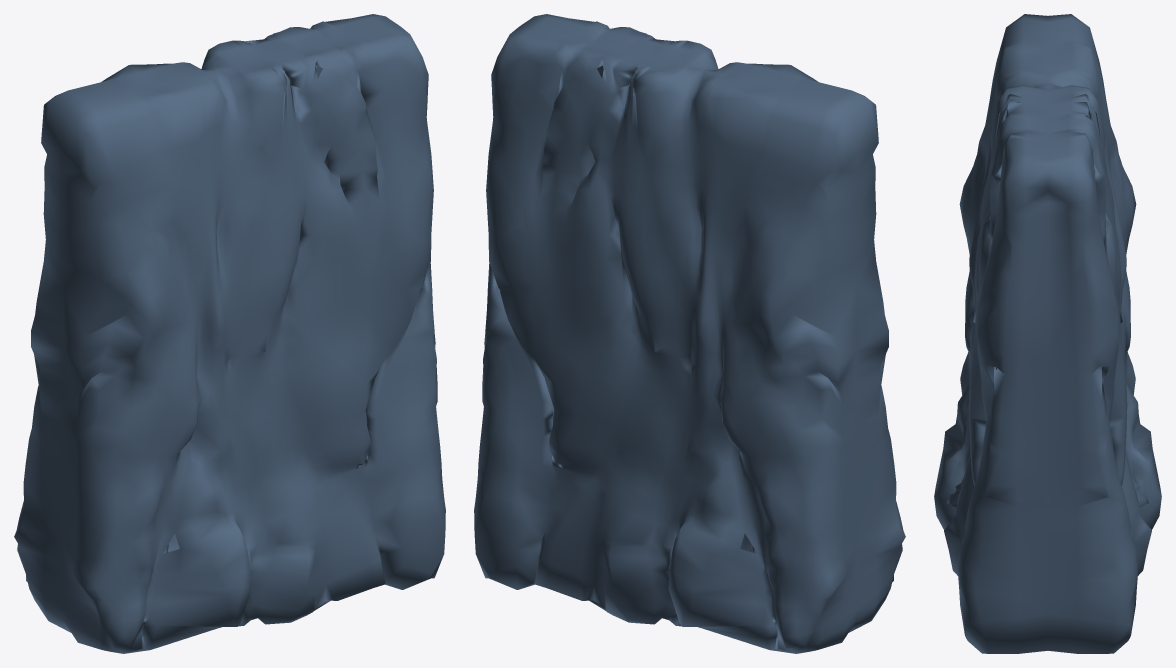
Rendered from Wall.Basic.DoubleSided.003.dae.
3 renders of one model, left to right at view 1: azimuth 30°, elevation 25°; view 2: azimuth 150°, elevation 25°; view 3: azimuth 270°, elevation 25°, orthographic. The views are drawn at different scales.
Visible parts, largest first — view 1: Plane.004; view 2: Plane.004; view 3: Plane.004.
Boxes of the visible parts, x1,y1,x2,y2 form: Plane.004: (14, 14, 445, 653); Plane.004: (474, 14, 905, 653); Plane.004: (934, 14, 1161, 653).
Size of the model in its own units: 13.1 by 7.75 by 18.66.
